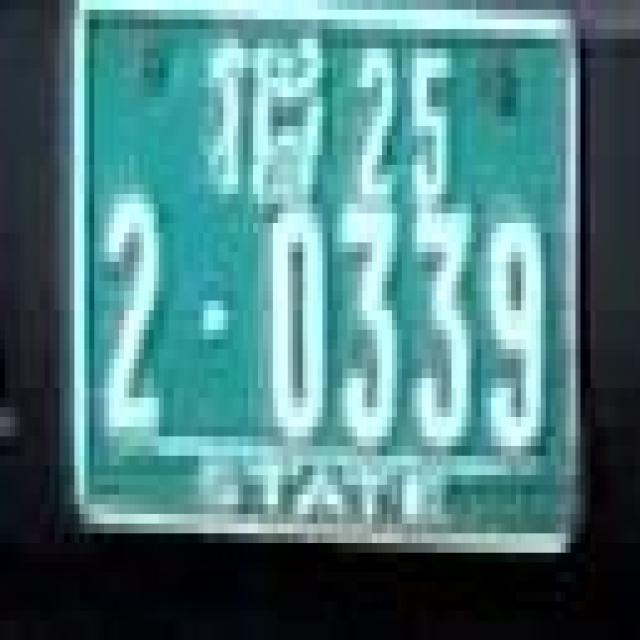State: (208, 29, 328, 206)
